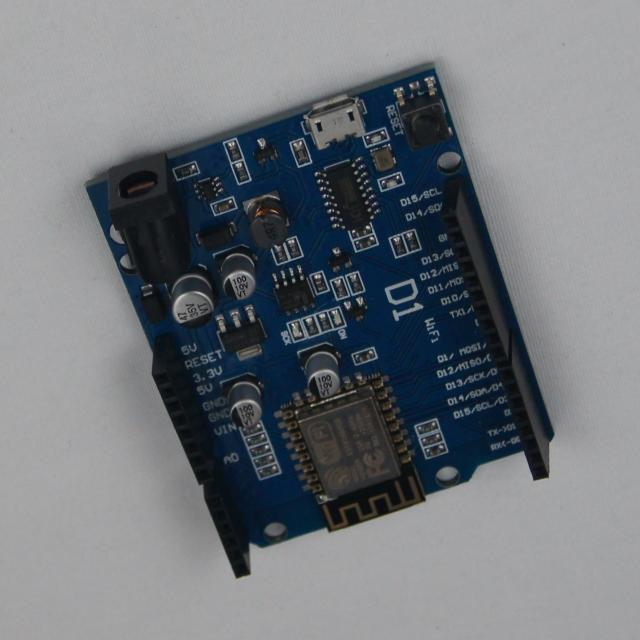Arduino Uno WiFi Shield: (87, 65, 555, 578)
